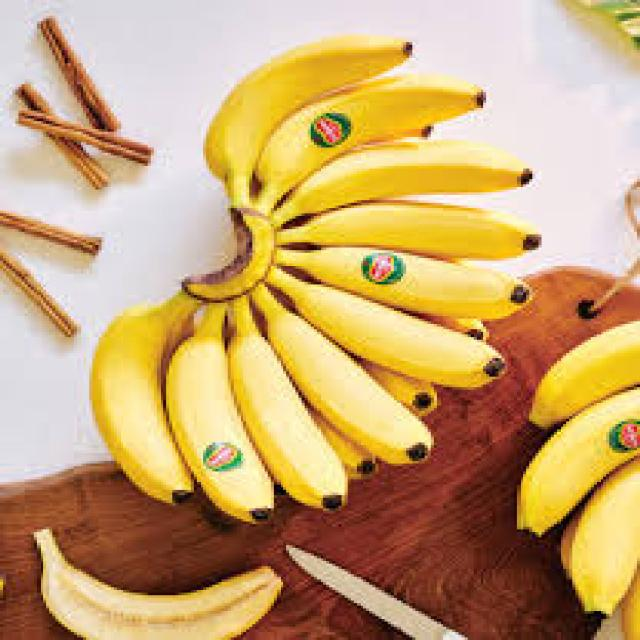banana: (95, 39, 523, 504), (516, 320, 640, 629), (26, 529, 285, 640)
